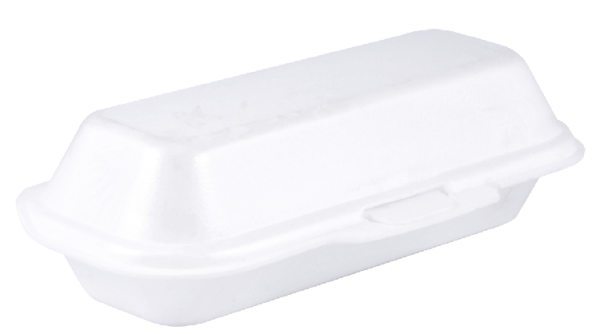Foam Box: (13, 25, 586, 330)
